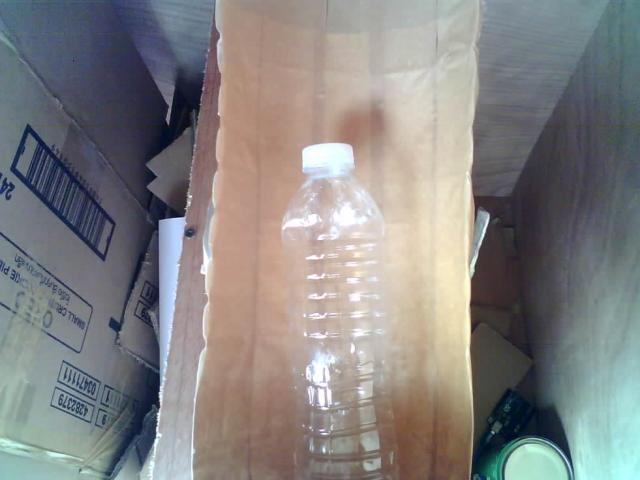small_bottle: (259, 125, 420, 480)
